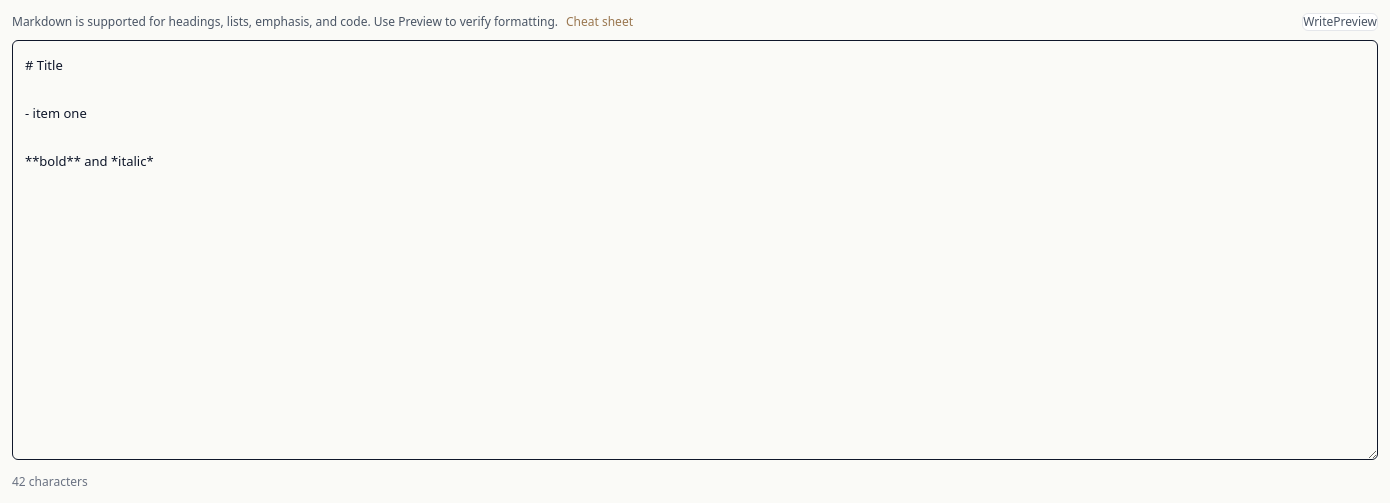
Test: TaskTextInput › renders markdown preview when toggled
What coordinates should you click on to do the following:
click the button "Preview"
I would click on:
 (1355, 22)
Its box is [1333,14,1377,30].
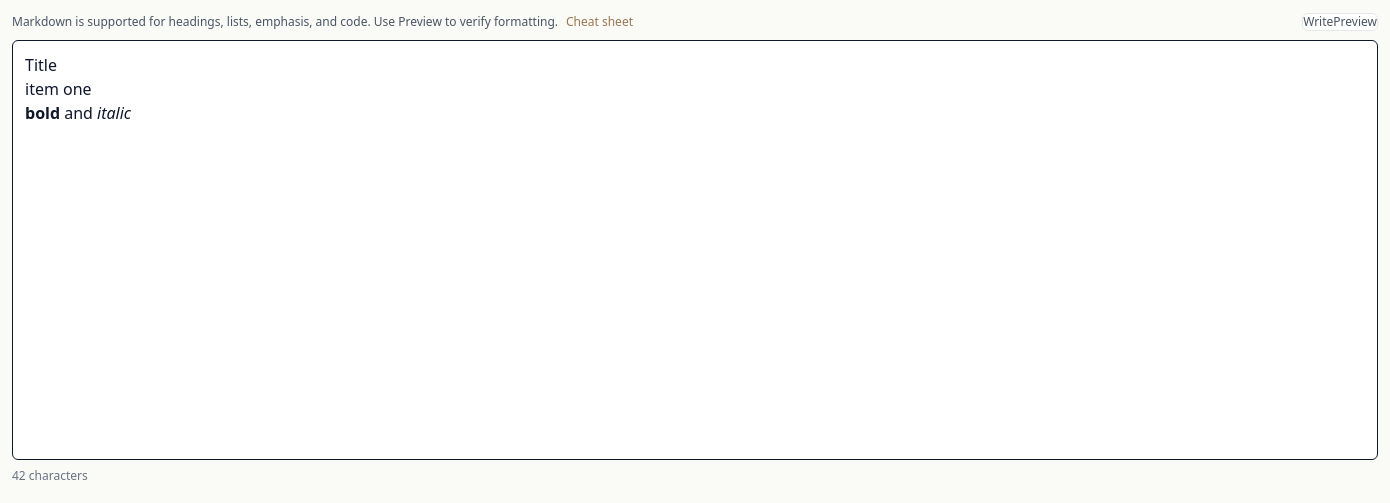
Now the heading "Title" is shown, box [25,54,57,76]
Now the list item "item one" is shown, box [25,78,92,100]
Now the text "bold" is shown, box [25,102,60,124]
